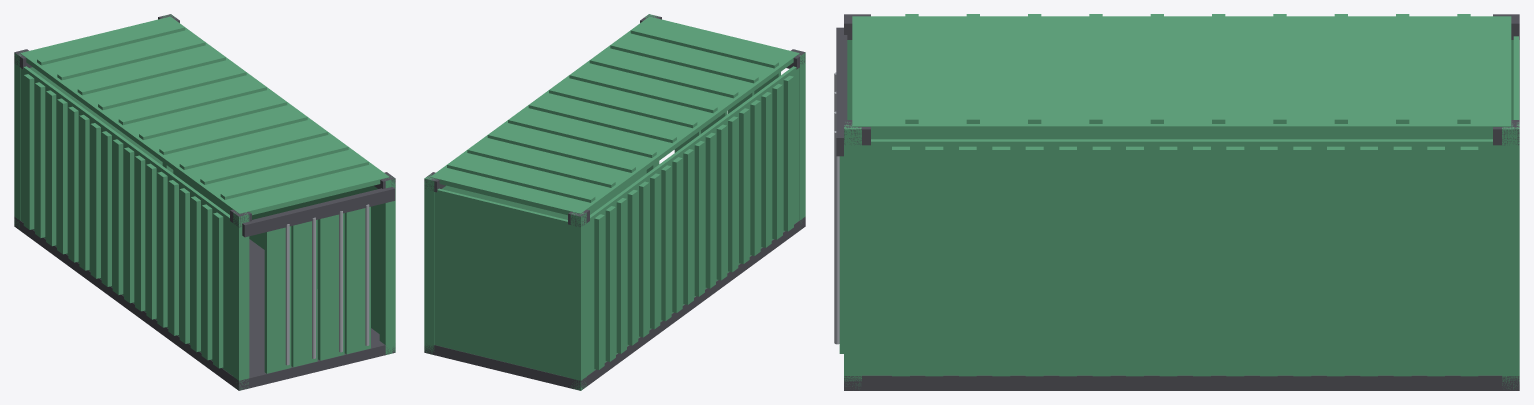
File: bt-d2-container-green.glb
3 views of the same model, side by side, from view 1: azimuth 30°, elevation 25°; view 2: azimuth 150°, elevation 25°; view 3: azimuth 270°, elevation 25° (orthographic). The views are drawn at different scales.
Visible parts, largest first — view 1: bt-d2-container-green_roof, bt-d2-container-green_side-1, bt-d2-container-green_floor, bt-d2-container-green_door0, bt-d2-container-green_door3, bt-d2-container-green_door1, bt-d2-container-green_door2, bt-d2-container-green_post-11, bt-d2-container-green_post11, bt-d2-container-green_header, bt-d2-container-green_side1, bt-d2-container-green_rib-1_16 (+33 smaller); view 2: bt-d2-container-green_roof, bt-d2-container-green_front, bt-d2-container-green_side-1, bt-d2-container-green_floor, bt-d2-container-green_post-1-1, bt-d2-container-green_post1-1, bt-d2-container-green_rib-1_3, bt-d2-container-green_rib-1_11, bt-d2-container-green_rib-1_2, bt-d2-container-green_rib-1_5, bt-d2-container-green_rib-1_6, bt-d2-container-green_rib-1_12 (+24 smaller); view 3: bt-d2-container-green_side1, bt-d2-container-green_roof, bt-d2-container-green_floor, bt-d2-container-green_post1-1, bt-d2-container-green_post11, bt-d2-container-green_rib1_2, bt-d2-container-green_rib1_5, bt-d2-container-green_rib1_7, bt-d2-container-green_rib1_11, bt-d2-container-green_rib1_13, bt-d2-container-green_rib1_14, bt-d2-container-green_rib1_16 (+25 smaller).
Boxes of the visible parts, left/top/right/bottom form: bt-d2-container-green_roof: left=20, top=16, right=389, bottom=215; bt-d2-container-green_side-1: left=20, top=66, right=232, bottom=375; bt-d2-container-green_floor: left=14, top=216, right=395, bottom=390; bt-d2-container-green_door0: left=264, top=226, right=291, bottom=373; bt-d2-container-green_door3: left=344, top=206, right=370, bottom=354; bt-d2-container-green_door1: left=291, top=219, right=317, bottom=367; bt-d2-container-green_door2: left=318, top=213, right=344, bottom=360; bt-d2-container-green_post-11: left=233, top=212, right=249, bottom=390; bt-d2-container-green_post11: left=379, top=177, right=395, bottom=354; bt-d2-container-green_header: left=242, top=187, right=395, bottom=237; bt-d2-container-green_side1: left=173, top=170, right=379, bottom=333; bt-d2-container-green_rib-1_16: left=201, top=204, right=212, bottom=360; bt-d2-container-green_roof: left=430, top=16, right=799, bottom=215; bt-d2-container-green_front: left=434, top=188, right=570, bottom=377; bt-d2-container-green_side-1: left=587, top=66, right=799, bottom=375; bt-d2-container-green_floor: left=424, top=216, right=805, bottom=390; bt-d2-container-green_post-1-1: left=570, top=212, right=586, bottom=390; bt-d2-container-green_post1-1: left=424, top=174, right=434, bottom=354; bt-d2-container-green_rib-1_3: left=627, top=190, right=638, bottom=345; bt-d2-container-green_rib-1_11: left=716, top=124, right=727, bottom=280; bt-d2-container-green_rib-1_2: left=616, top=198, right=626, bottom=353; bt-d2-container-green_rib-1_5: left=650, top=173, right=660, bottom=329; bt-d2-container-green_rib-1_6: left=661, top=165, right=671, bottom=321; bt-d2-container-green_rib-1_12: left=728, top=116, right=738, bottom=272; bt-d2-container-green_side1: left=862, top=139, right=1501, bottom=375; bt-d2-container-green_roof: left=852, top=16, right=1511, bottom=133; bt-d2-container-green_floor: left=844, top=375, right=1519, bottom=390; bt-d2-container-green_post1-1: left=1502, top=122, right=1519, bottom=389; bt-d2-container-green_post11: left=844, top=122, right=861, bottom=388; bt-d2-container-green_rib1_2: left=1393, top=146, right=1411, bottom=376; bt-d2-container-green_rib1_5: left=1293, top=146, right=1311, bottom=376; bt-d2-container-green_rib1_7: left=1226, top=146, right=1244, bottom=376; bt-d2-container-green_rib1_11: left=1092, top=146, right=1110, bottom=376; bt-d2-container-green_rib1_13: left=1025, top=146, right=1043, bottom=376; bt-d2-container-green_rib1_14: left=992, top=146, right=1010, bottom=376; bt-d2-container-green_rib1_16: left=925, top=146, right=943, bottom=376.
Size of the model in its own units: 2.57 by 2.64 by 6.15.
